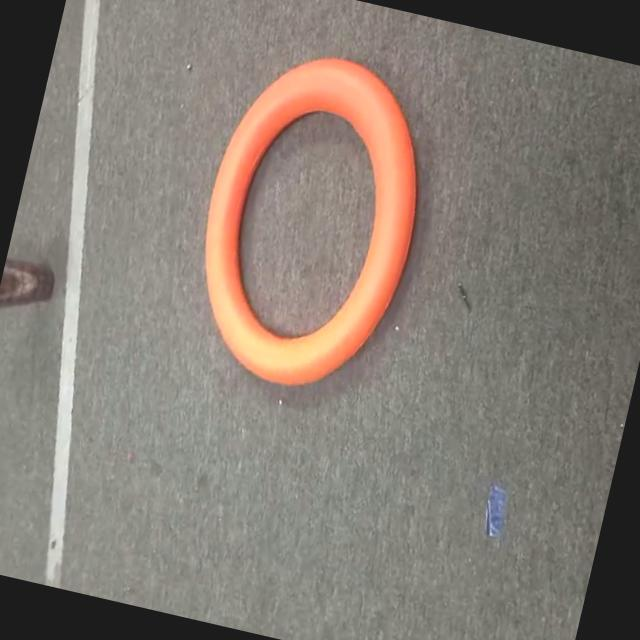note: (158, 24, 458, 421)
